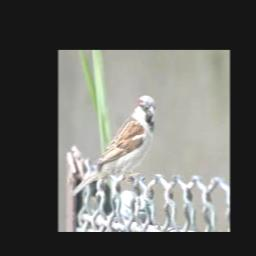Sparrow: (71, 95, 156, 199)
